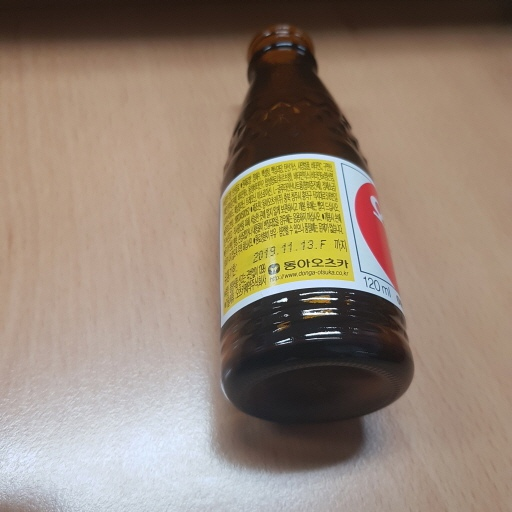Glass_3: (212, 24, 417, 431)
